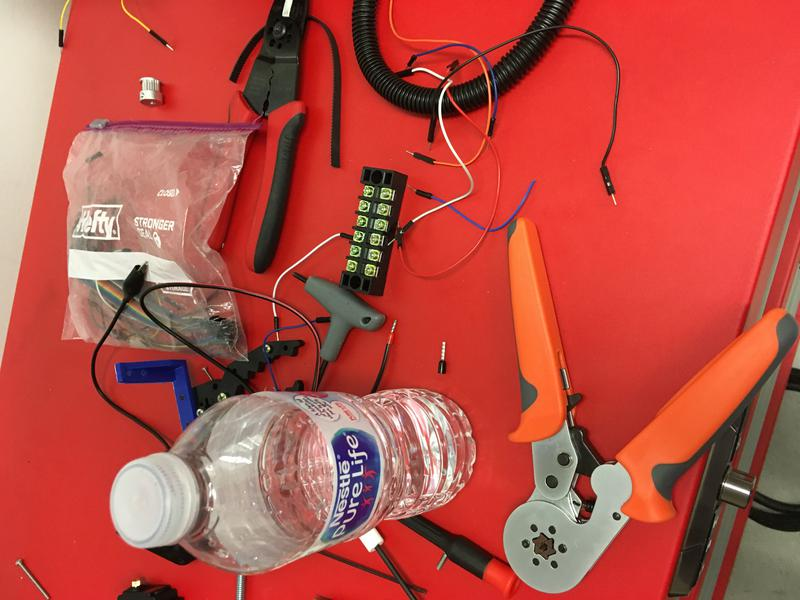bottle: (109, 387, 478, 575)
